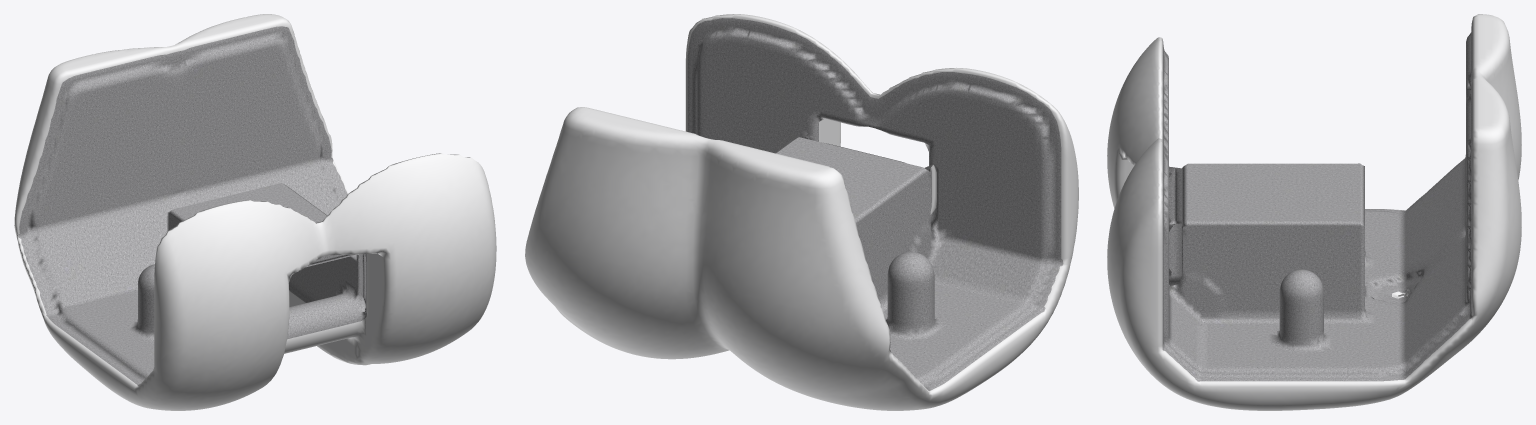
Rendered from femoral_mirai_lod0.glb.
3 views of the same model, side by side, from view 1: azimuth 30°, elevation 25°; view 2: azimuth 150°, elevation 25°; view 3: azimuth 270°, elevation 25° (orthographic). The views are drawn at different scales.
Visible parts, largest first — view 1: femoral_mirai; view 2: femoral_mirai; view 3: femoral_mirai.
Part boxes in pixels (x1,y1,x2,y2): femoral_mirai: [14, 14, 496, 410]; femoral_mirai: [525, 14, 1078, 410]; femoral_mirai: [1107, 14, 1521, 410].
Size of the model in its own units: 0.066 by 0.0473 by 0.0657.
2 materials, 1 textured.
